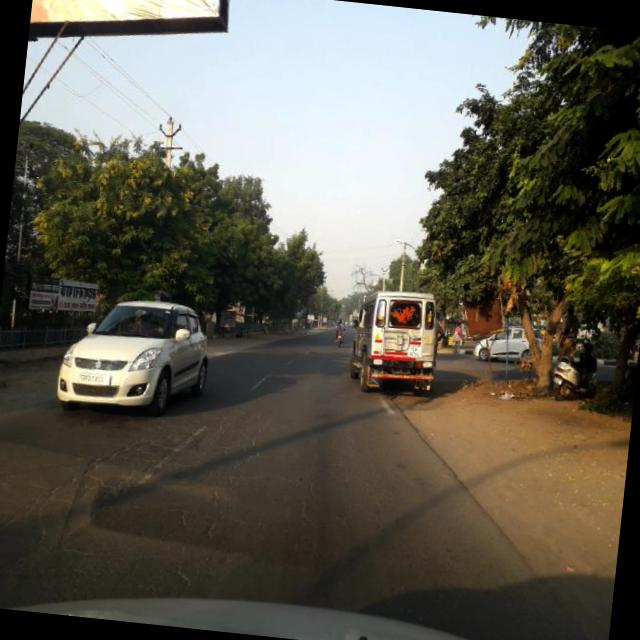crack: (3, 422, 230, 579)
